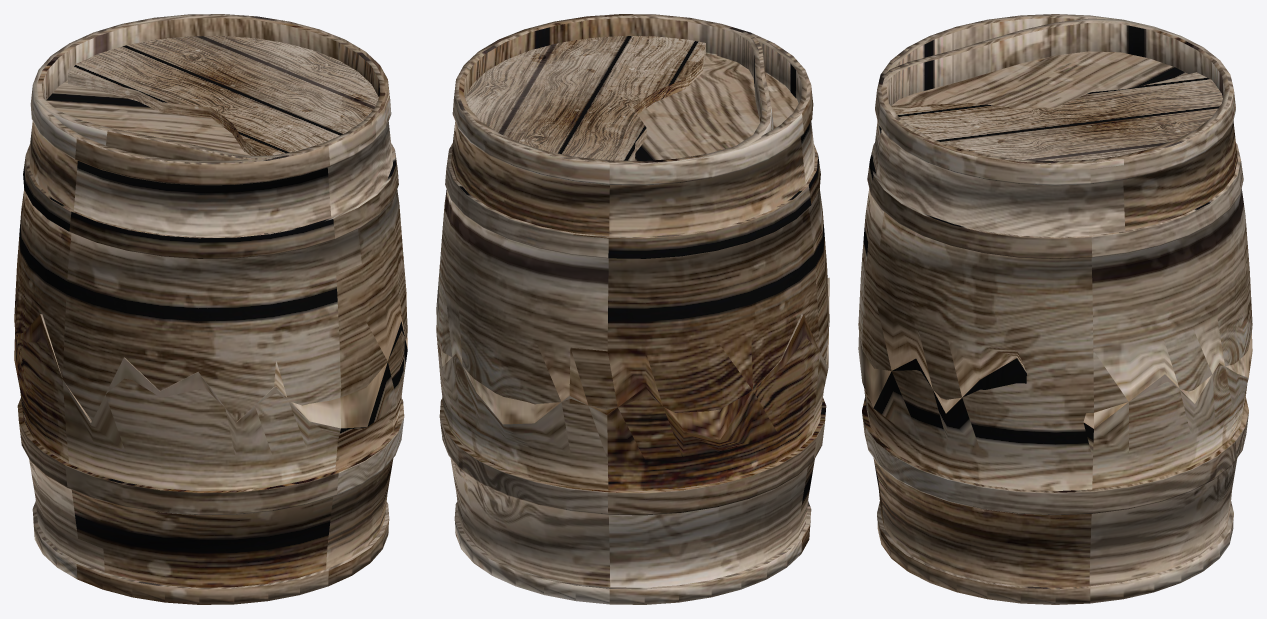
File: BochkaDestoy2.fbx
The picture shows the model from 3 angles, left to right: view 1: azimuth 30°, elevation 25°; view 2: azimuth 150°, elevation 25°; view 3: azimuth 270°, elevation 25°; orthographic projection.
Visible parts, largest first — view 1: Bochka, BDP2, BDP1, BDP1Verh; view 2: BDP1, BDP2, Bochka, BDP1Verh; view 3: BDP1, BDP2, Bochka, BDP1Verh.
Boxes of the visible parts, bbox=[...] form: Bochka: bbox=[14, 80, 407, 460]; BDP2: bbox=[14, 314, 407, 604]; BDP1: bbox=[14, 14, 407, 428]; BDP1Verh: bbox=[68, 36, 378, 155]; BDP1: bbox=[436, 14, 773, 439]; BDP2: bbox=[436, 313, 828, 604]; Bochka: bbox=[436, 18, 829, 460]; BDP1Verh: bbox=[465, 36, 705, 160]; BDP1: bbox=[858, 18, 1252, 428]; BDP2: bbox=[862, 358, 1248, 604]; Bochka: bbox=[858, 14, 1252, 460]; BDP1Verh: bbox=[895, 72, 1222, 161].
Size of the model in its own units: 227 by 280 by 227.
